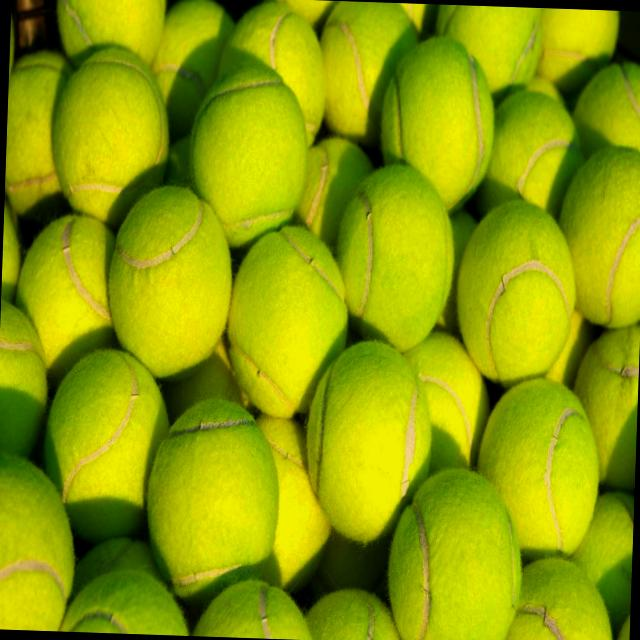ball: (182, 58, 314, 240)
